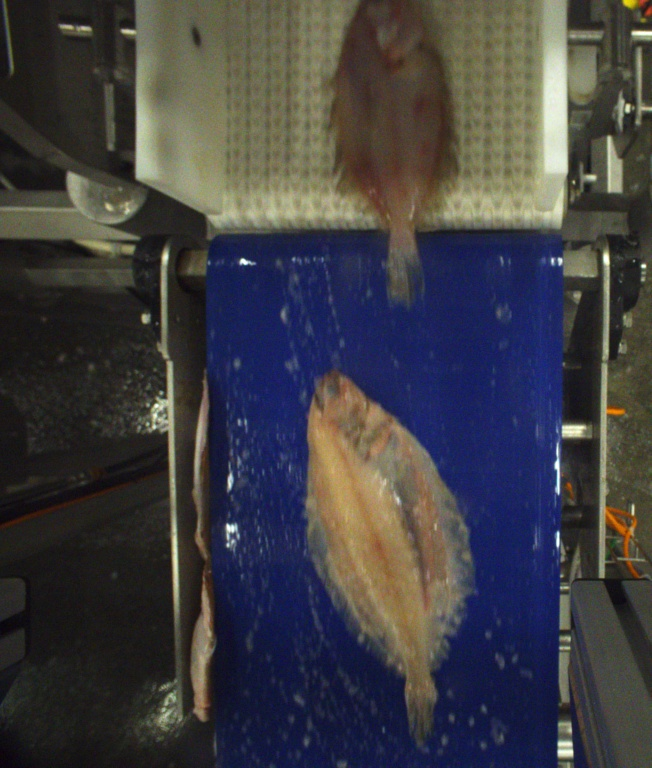WIT: (304, 373, 477, 747)
